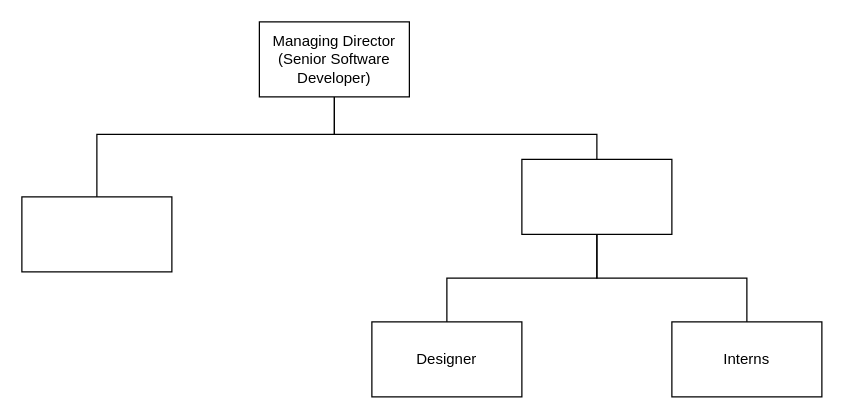
Some shapes in this 844 by 419 pixel diagram are drawn without their labels. The shapes that lost their labels are listed below. From the top down, each one's centre as x and y in pixels, then its label:
(596,196): Project Manager
(96,234): Lead Marketing Manager
